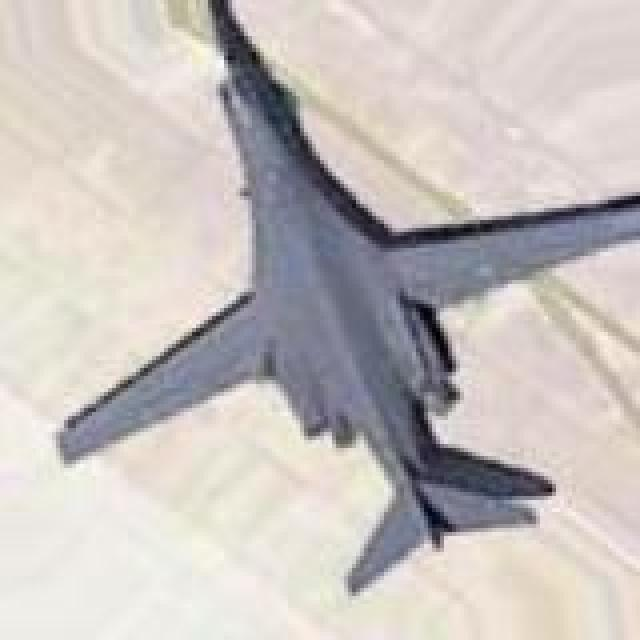B-1_TopDown: (52, 0, 636, 596)
